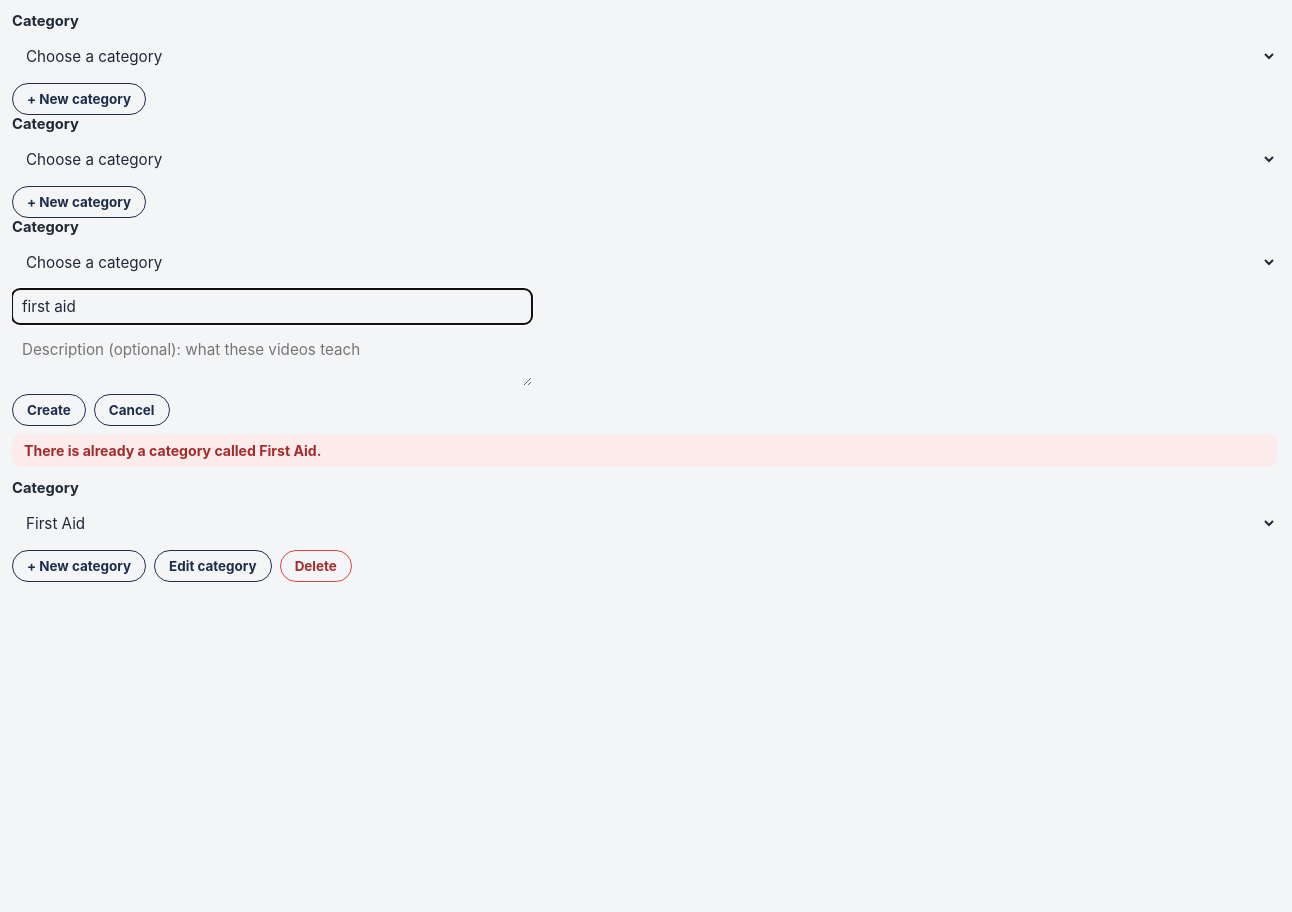
edits the chosen category, starting from its name and description
Later steps or results of the test are not shown.
Click the button "Edit category" at (213, 566), box [154,550,272,582]
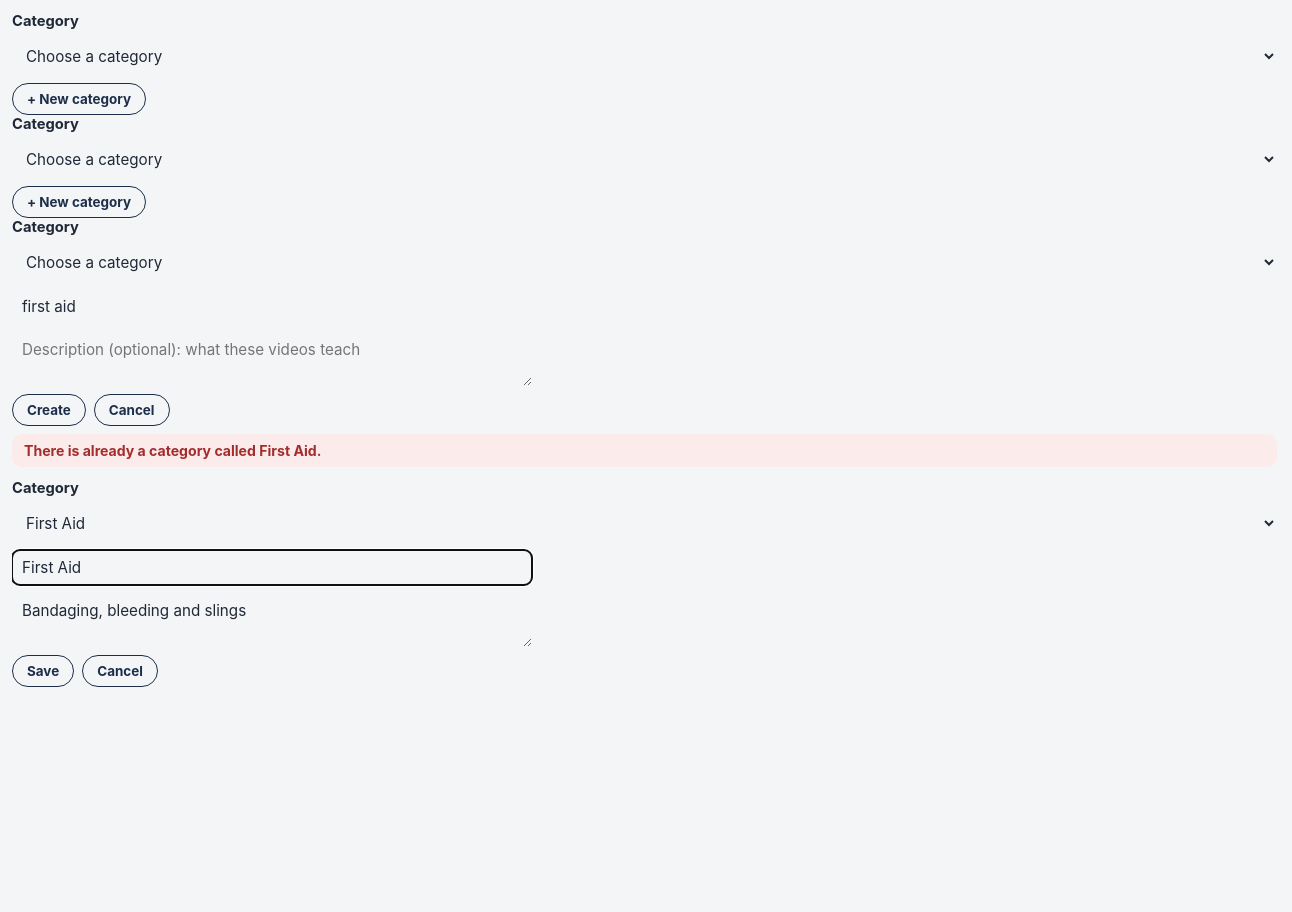
Check: the field named "Category name" holds "First Aid", box [12,550,532,585]
